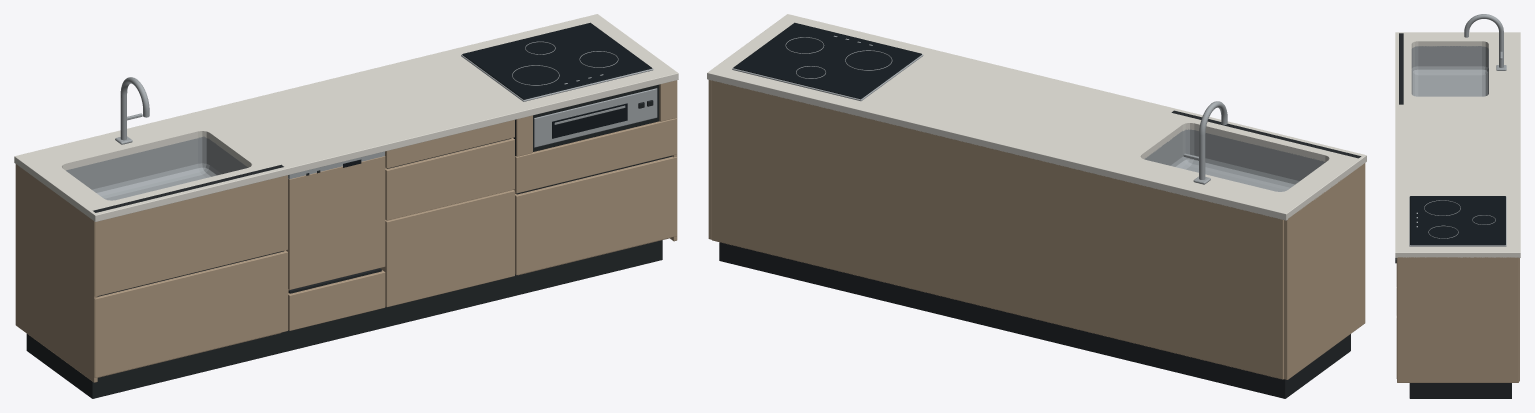
The model's file is original-kitchen-i2700.glb.
3 views of the same model, side by side, from view 1: azimuth 30°, elevation 25°; view 2: azimuth 150°, elevation 25°; view 3: azimuth 270°, elevation 25° (orthographic). The views are drawn at different scales.
Visible parts, largest first — view 1: original-kitchen-i2700; view 2: original-kitchen-i2700; view 3: original-kitchen-i2700.
Boxes of the visible parts, bbox=[...] form: original-kitchen-i2700: bbox=[14, 14, 678, 398]; original-kitchen-i2700: bbox=[707, 14, 1366, 398]; original-kitchen-i2700: bbox=[1395, 14, 1520, 398].
Size of the model in its own units: 2.7 by 1.16 by 0.65.
